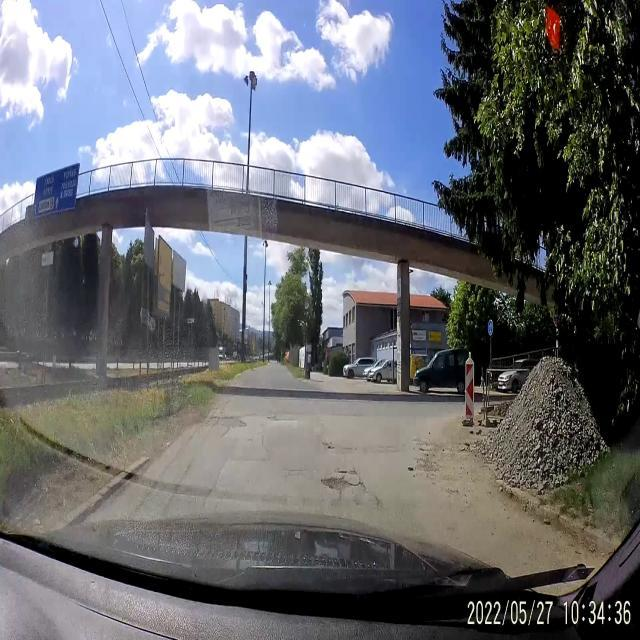Pothole: (320, 464, 366, 492), (206, 414, 248, 431), (320, 436, 338, 458), (266, 407, 284, 427), (370, 490, 382, 516), (283, 466, 306, 478), (406, 462, 419, 478)
